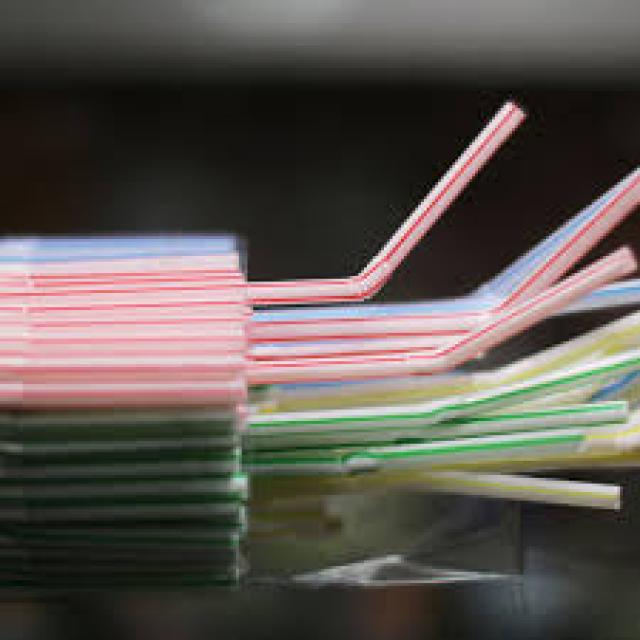plastic: (227, 84, 584, 314)
